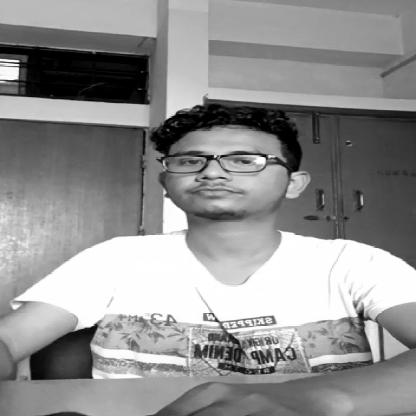Normal: (134, 99, 302, 232)
